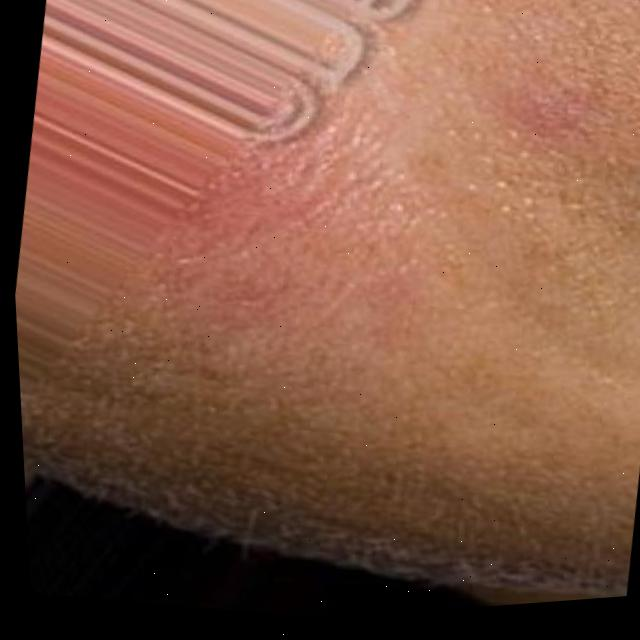Rosacea: (109, 58, 470, 383), (468, 56, 596, 158)
